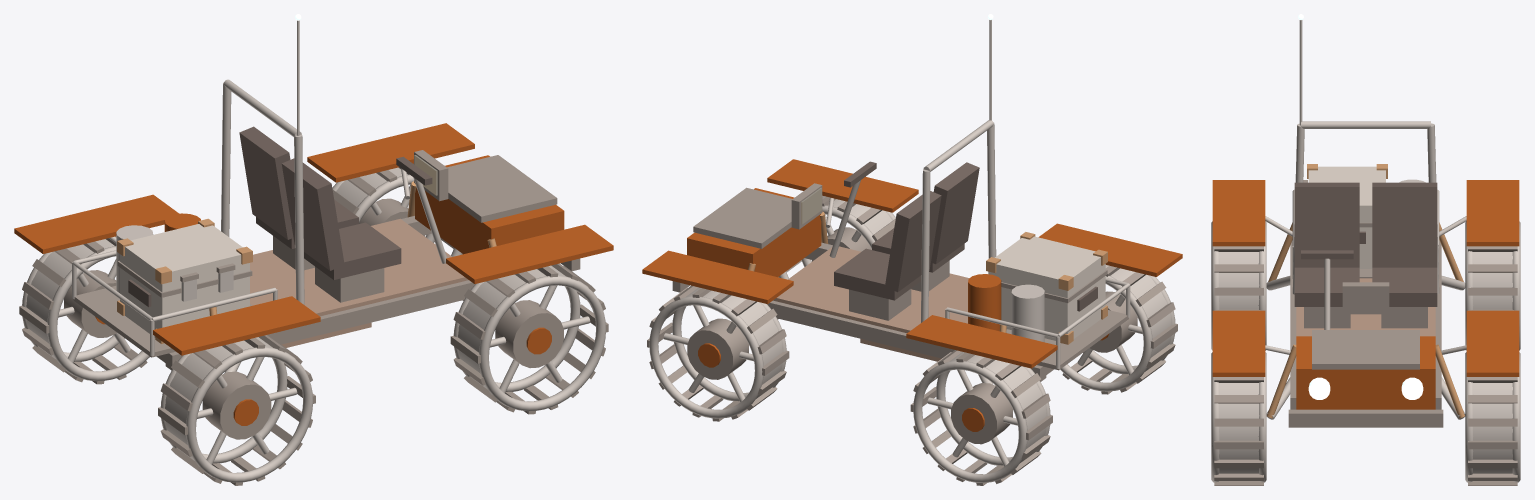
Rendered from V01_open_rover_orange.glb.
The picture shows the model from 3 angles, left to right: view 1: azimuth 30°, elevation 25°; view 2: azimuth 150°, elevation 25°; view 3: azimuth 270°, elevation 25°; orthographic projection. The views are drawn at different scales.
Parts seen in each view (by area): view 1: fender (×4), tire_edge (×7), shell, hub (×4), seat_back (×2), floor_pan, tire (×4), nose_lid, nose_box, roll_bar (×3), frame_rail, seat_base (×2) (+6 smaller); view 2: fender (×4), tire_edge (×6), shell, seat_back (×2), floor_pan, hub (×3), tire (×4), nose_box, nose_lid, canister (×2), roll_bar (×3), frame_rail (+5 smaller); view 3: fender (×4), seat_back (×2), tire (×4), tread (×14), nose_box, tire_edge (×8), nose_lid, seat_base (×2), bumper, shell, roll_bar (×3), damper (×4) (+10 smaller).
Boxes of the visible parts, bbox=[...] form: fender (×4): bbox=[14, 123, 613, 355]; tire_edge (×7): bbox=[22, 174, 605, 482]; shell: bbox=[120, 224, 249, 337]; hub (×4): bbox=[64, 198, 563, 439]; seat_back (×2): bbox=[239, 126, 344, 270]; floor_pan: bbox=[250, 218, 468, 316]; tire (×4): bbox=[26, 167, 565, 460]; nose_lid: bbox=[447, 155, 557, 222]; nose_box: bbox=[415, 155, 564, 254]; roll_bar (×3): bbox=[221, 79, 304, 304]; frame_rail: bbox=[165, 280, 474, 370]; seat_base (×2): bbox=[256, 199, 401, 279]; fender (×4): bbox=[642, 159, 1182, 368]; tire_edge (×6): bbox=[649, 275, 1175, 482]; shell: bbox=[988, 236, 1105, 340]; seat_back (×2): bbox=[885, 162, 979, 292]; floor_pan: bbox=[773, 246, 969, 332]; hub (×3): bbox=[687, 291, 1137, 444]; tire (×4): bbox=[685, 196, 1171, 462]; nose_box: bbox=[687, 188, 821, 277]; nose_lid: bbox=[693, 187, 792, 248]; canister (×2): bbox=[968, 274, 1044, 342]; roll_bar (×3): bbox=[921, 120, 996, 322]; frame_rail: bbox=[767, 300, 1046, 381]; fender (×4): bbox=[1212, 180, 1519, 376]; seat_back (×2): bbox=[1294, 182, 1437, 267]; tire (×4): bbox=[1219, 252, 1512, 473]; tread (×14): bbox=[1214, 264, 1517, 480]; nose_box: bbox=[1296, 336, 1435, 409]; tire_edge (×8): bbox=[1211, 221, 1520, 482]; nose_lid: bbox=[1312, 330, 1419, 369]; seat_base (×2): bbox=[1294, 267, 1437, 306]; bumper: bbox=[1288, 409, 1443, 427]; shell: bbox=[1308, 166, 1385, 268]; roll_bar (×3): bbox=[1292, 121, 1439, 294]; damper (×4): bbox=[1267, 222, 1464, 418].
Size of the model in its own units: 3 by 2.68 by 2.
